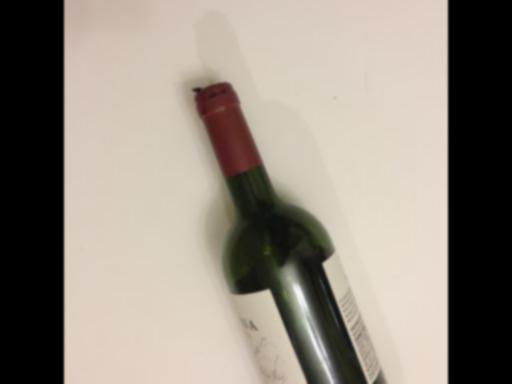alcohol: (190, 81, 405, 384)
glass: (190, 81, 405, 384)
sodocalcique: (190, 81, 405, 384)
